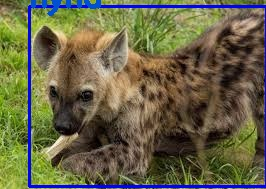hyna: (28, 6, 265, 186)
